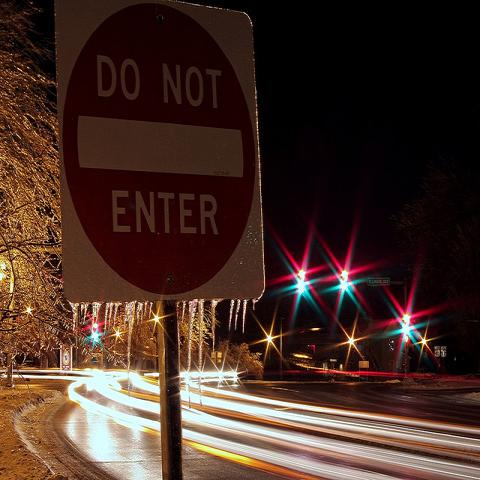car: (218, 364, 238, 386)
